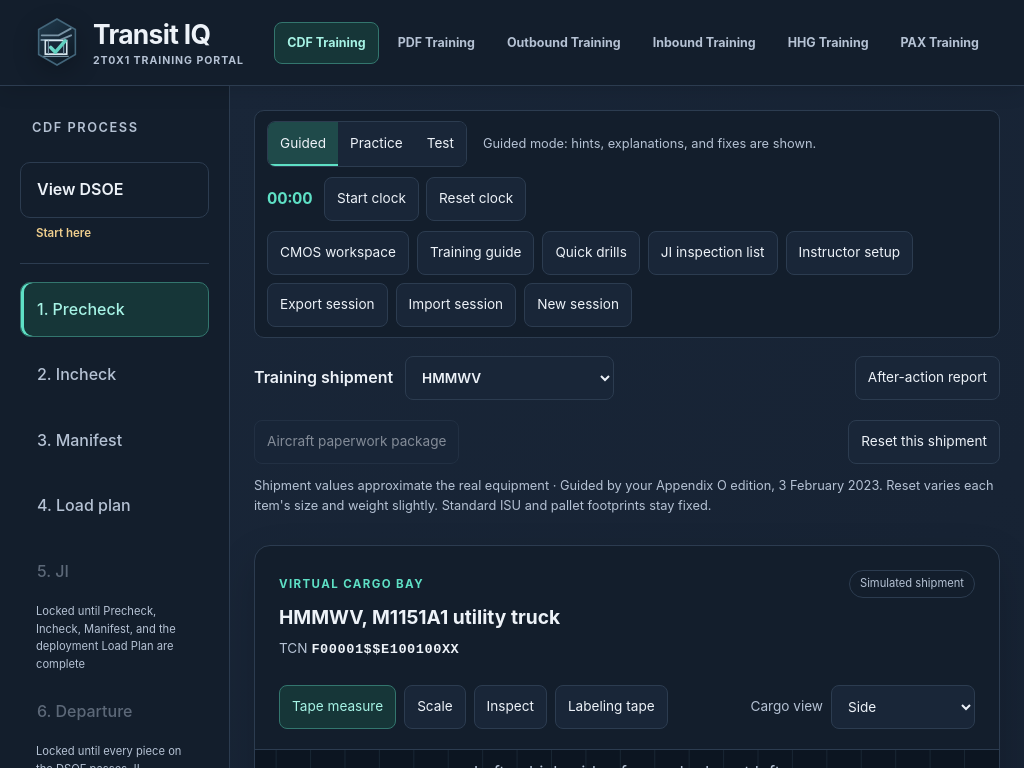
viewed readings leave notebook blank until the trainee types and records them
Click the button "Scale" at (435, 707), box [404,685,466,729]
(page scrolled)
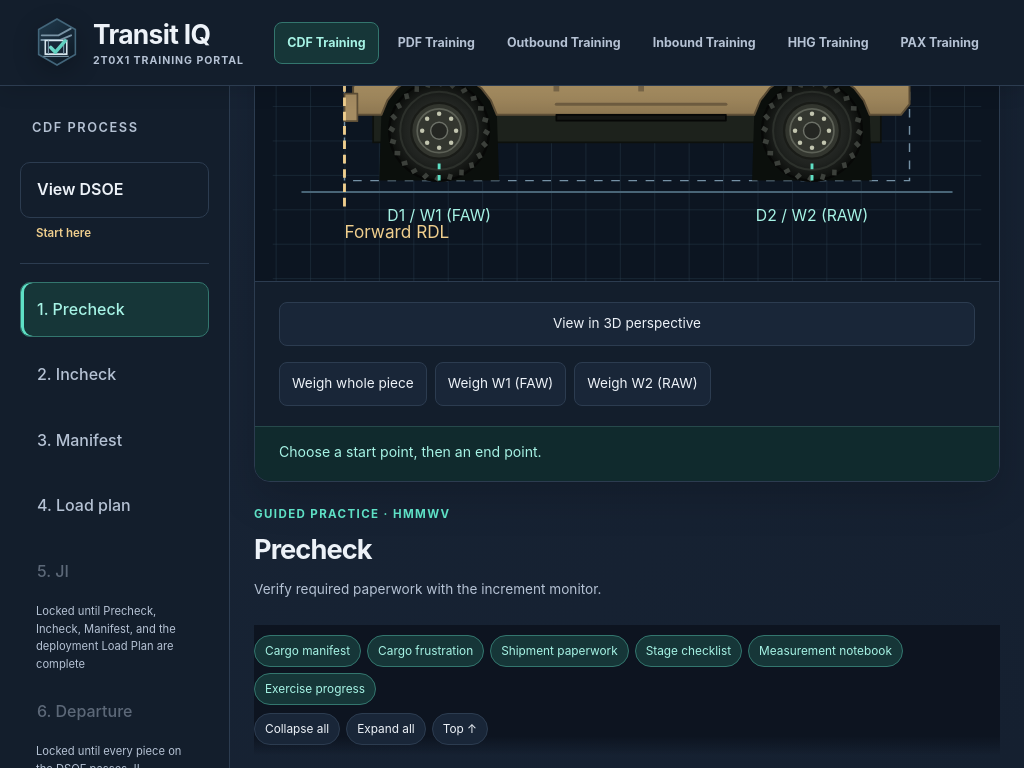
Click the button "Weigh whole piece" at (353, 384), box [279,362,427,406]
(page scrolled)
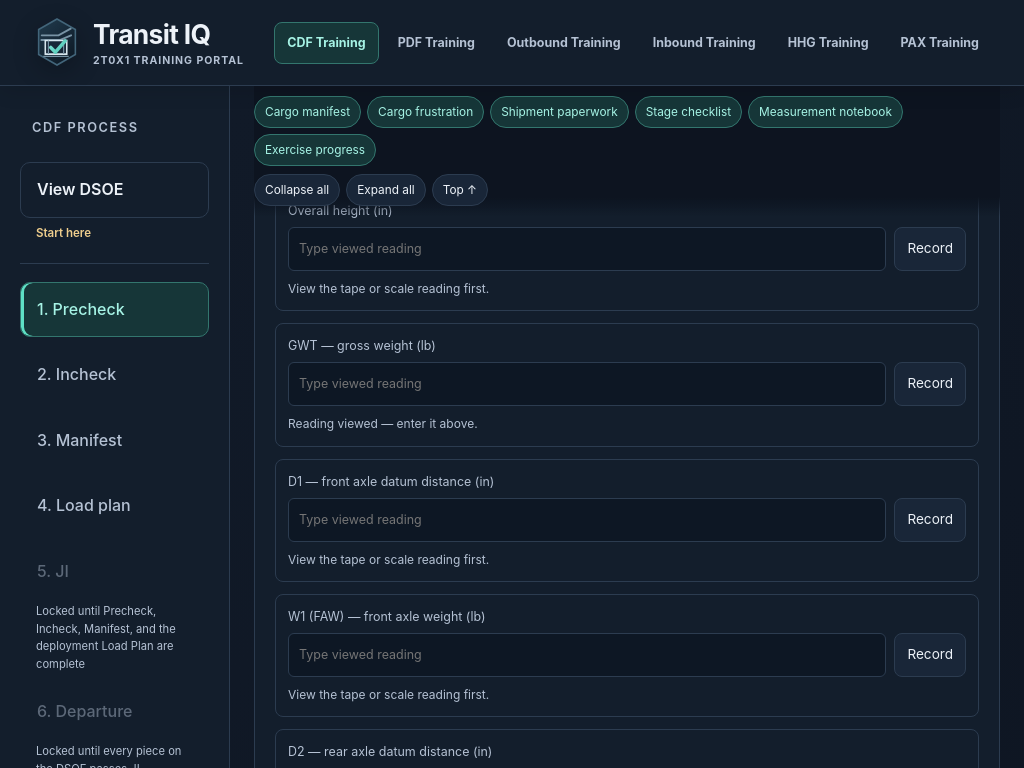
Type "5000" into the number field labelled "GWT — gross weight (lb)" at (587, 384), box [288,362,886,406]
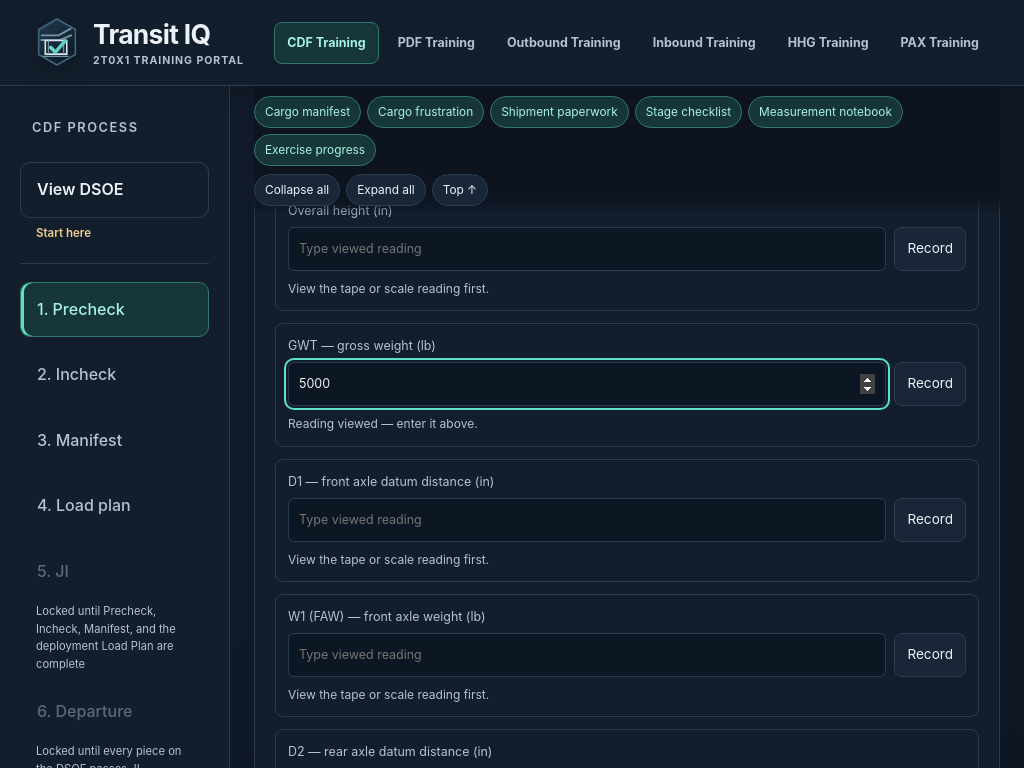
Click the 2nd button "Record" at (930, 384), box [894,362,966,406]
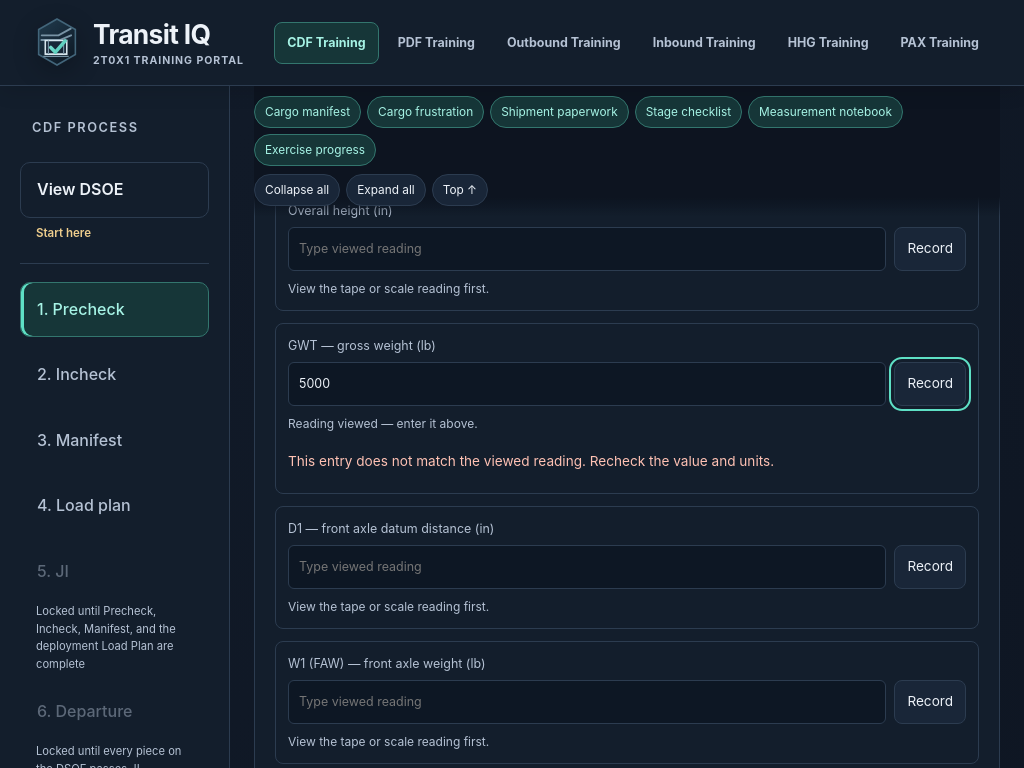
Check: the element "Measurement notebook" shows "does not match", box [288,452,774,468]
Replace the text in the number field labelled "GWT — gross weight (lb)" with "9800" at (587, 384), box [288,362,886,406]
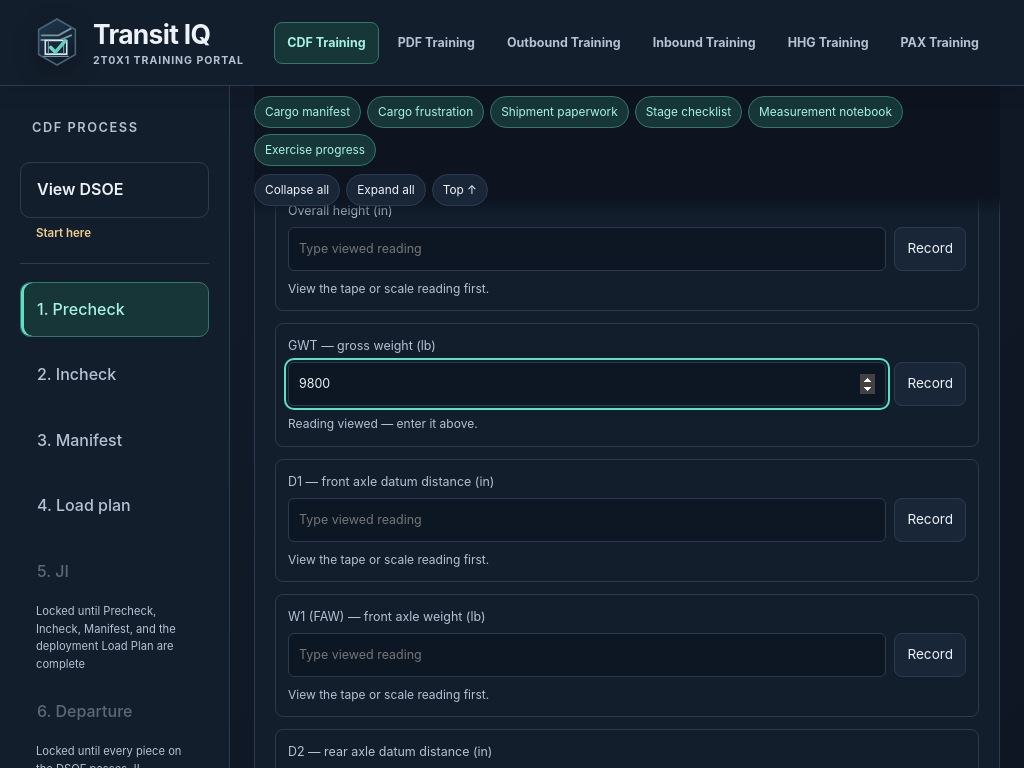
Click the 2nd button "Record" at (930, 384), box [894,362,966,406]
(page scrolled)
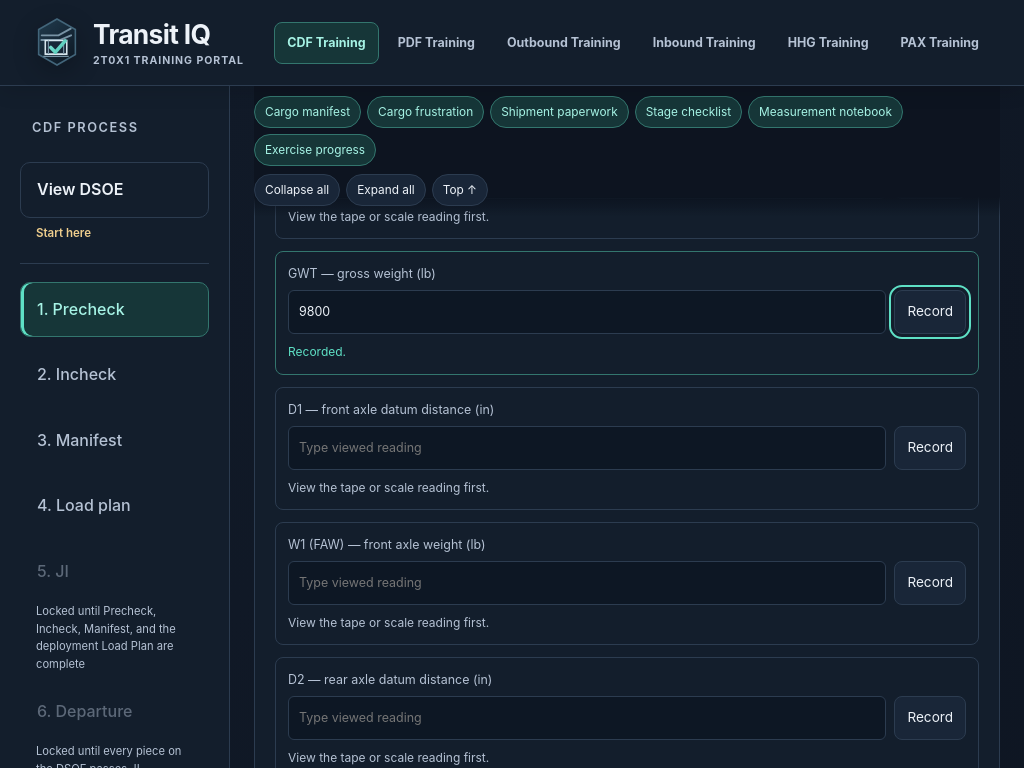
Check: the element "Measurement notebook" shows "Recorded.", box [288,344,346,359]
